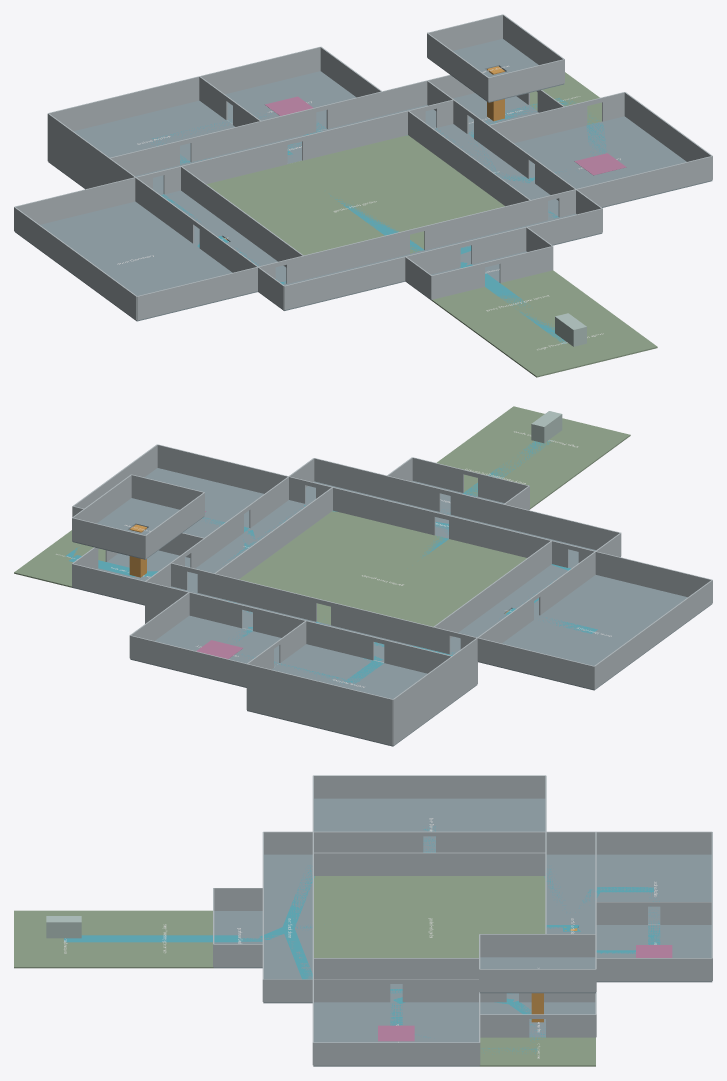
Rendered from rough-shell.glb.
3 views of the same model, one above another, from view 1: azimuth 30°, elevation 25°; view 2: azimuth 150°, elevation 25°; view 3: azimuth 270°, elevation 25° (orthographic). The views are drawn at different scales.
Visible parts, largest first — view 1: Floor garden, Floor dorm, Floor refectory, Floor entry, Floor stage, Floor archive, Wall archive N, Floor vestry, Wall south S, Wall north N.001, Wall dorm W, Wall refectory S (+46 smaller); view 2: Floor garden, Floor dorm, Floor stage, Floor archive, Floor entry, Wall archive N, Wall chamber N, Wall south S, Floor vestry, Wall dorm W, Wall refectory S, Wall dorm N (+43 smaller); view 3: Floor garden, Floor dorm, Floor refectory, Floor archive, Wall dorm W, Wall west E, Floor south, Floor entry, Floor stage, Wall refectory E, Wall east W, Floor vestry (+32 smaller).
Boxes of the visible parts, x1,y1,x2,y2 form: Floor garden: (206,135,504,255); Floor dorm: (14,201,257,321); Floor refectory: (514,116,712,207); Floor entry: (431,270,604,338); Floor stage: (484,308,657,377); Floor archive: (74,100,234,164); Wall archive N: (48,76,199,131); Floor vestry: (225,71,356,130); Wall south S: (284,243,460,309); Wall north N.001: (190,107,316,162); Wall dorm W: (14,207,136,320); Wall refectory S: (577,156,712,207); Floor garden: (239,511,526,626); Floor dorm: (478,575,711,690); Floor stage: (463,406,630,472); Floor archive: (272,644,427,698); Floor entry: (436,443,579,509); Wall archive N: (246,664,393,722); Wall chamber N: (246,687,393,745); Wall south S: (450,492,620,550); Floor vestry: (130,615,281,687); Wall dorm W: (594,580,712,689); Wall refectory S: (157,444,288,493); Wall dorm N: (477,637,594,689); Floor garden: (314,876,545,957); Floor dorm: (314,798,545,852); Floor refectory: (313,1002,479,1066); Floor archive: (596,854,711,924); Wall dorm W: (313,775,545,798); Wall west E: (314,852,545,875); Floor south: (263,854,312,1003); Floor entry: (113,910,213,968); Floor stage: (14,910,113,968); Wall refectory E: (313,1042,479,1065); Wall east W: (313,958,478,979); Floor vestry: (596,925,712,982).
Size of the model in its own units: 76.16 by 12.16 by 84.08.
